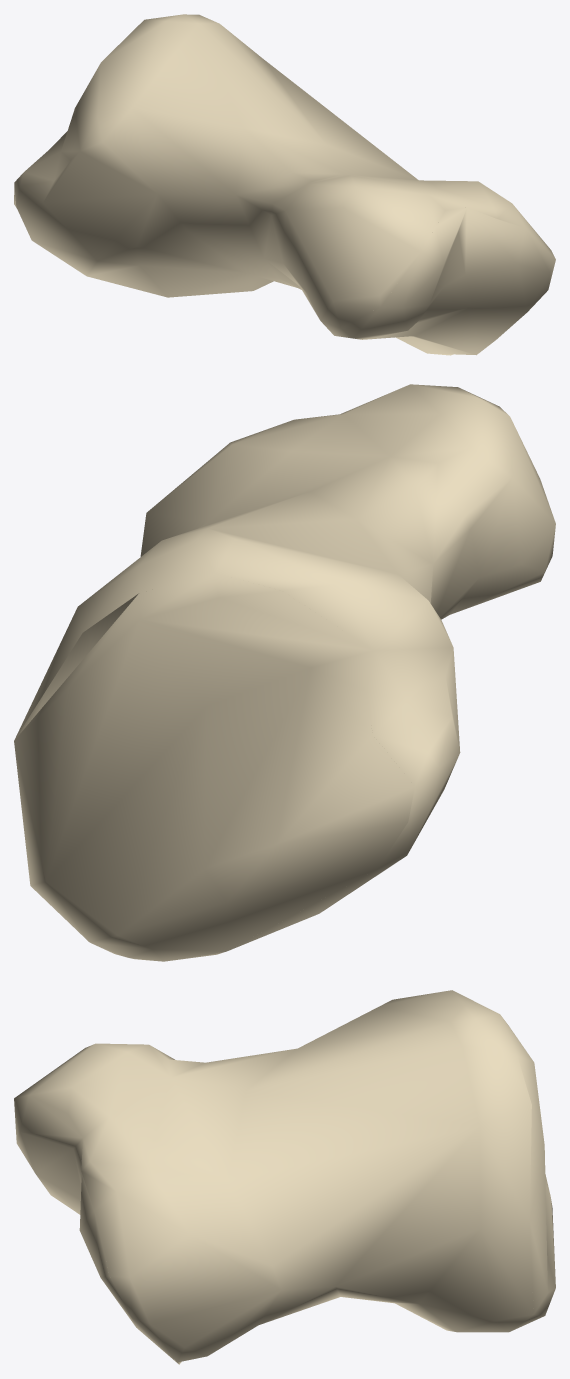
File: esqueleto-middle-phalanx-of-fourth-finger-of-foot-l.glb
3 renders of one model, top to bottom at view 1: azimuth 30°, elevation 25°; view 2: azimuth 150°, elevation 25°; view 3: azimuth 270°, elevation 25°, orthographic. The views are drawn at different scales.
Parts seen in each view (by area): view 1: Middle phalanx of fourth finger of foot.l; view 2: Middle phalanx of fourth finger of foot.l; view 3: Middle phalanx of fourth finger of foot.l.
Part boxes in pixels (box(x1,y1,x2,y2)): Middle phalanx of fourth finger of foot.l: box(14, 14, 555, 355); Middle phalanx of fourth finger of foot.l: box(14, 384, 555, 961); Middle phalanx of fourth finger of foot.l: box(14, 990, 555, 1364).
Size of the model in its own units: 0.0111 by 0.00834 by 0.0141.
